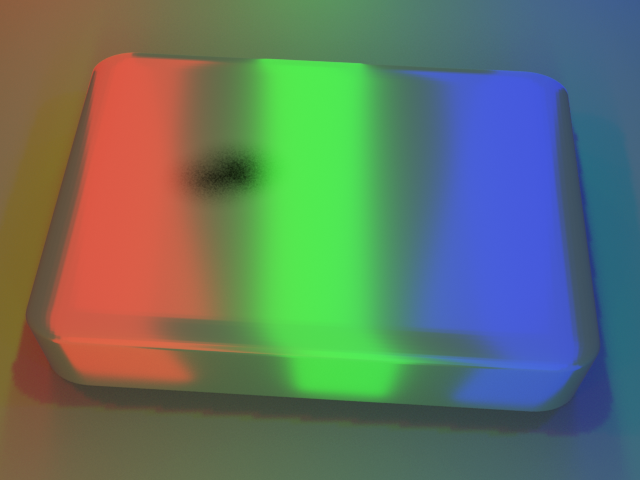stain: (126, 112, 324, 221)
